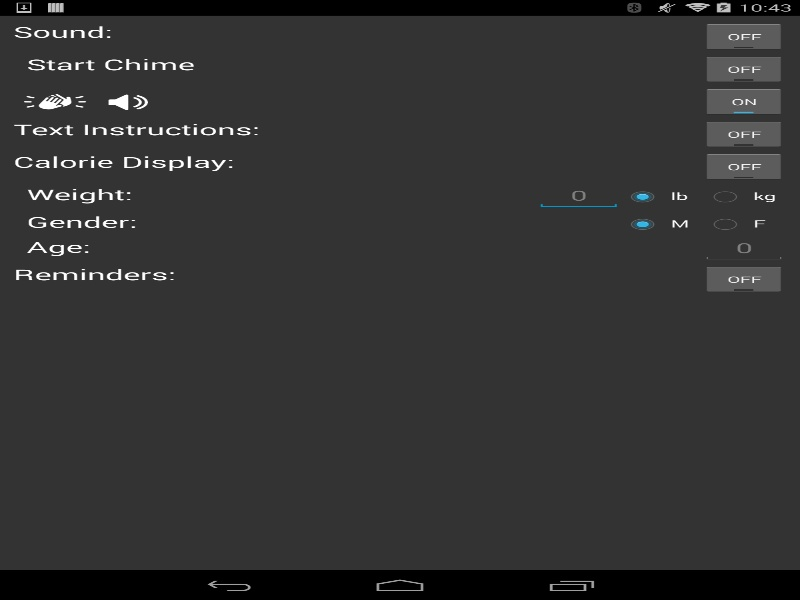Input: (536, 184, 621, 209), (701, 236, 786, 261)
